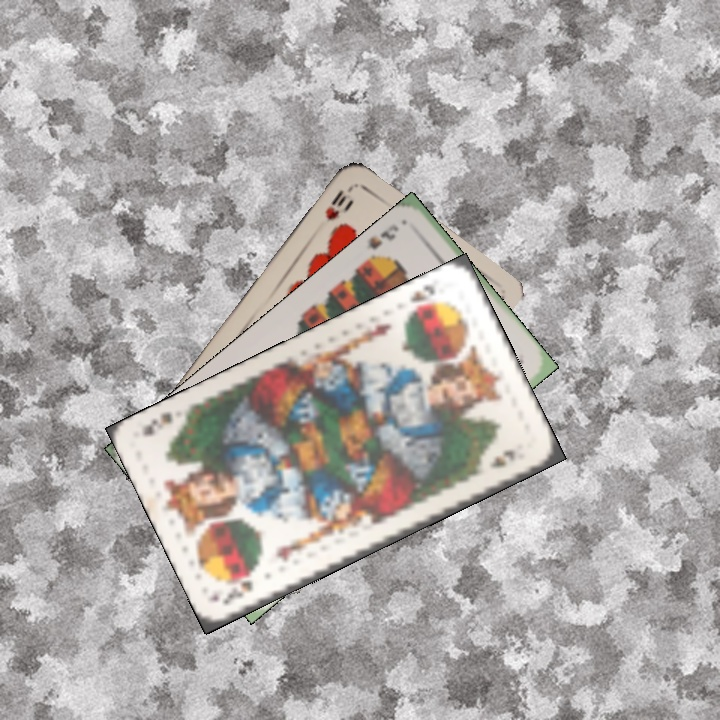H10: (321, 185, 350, 223)
S9: (362, 220, 401, 262)
SK: (402, 280, 439, 319), (218, 575, 256, 608)
